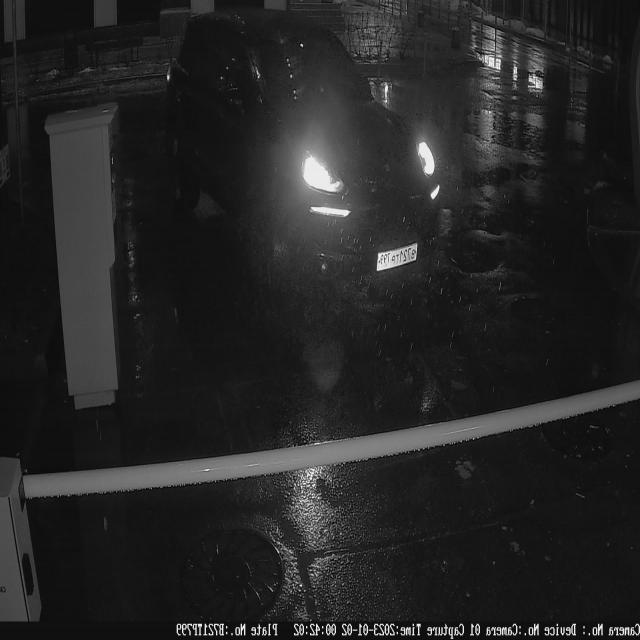car-plate-numbers: (376, 237, 423, 276)
